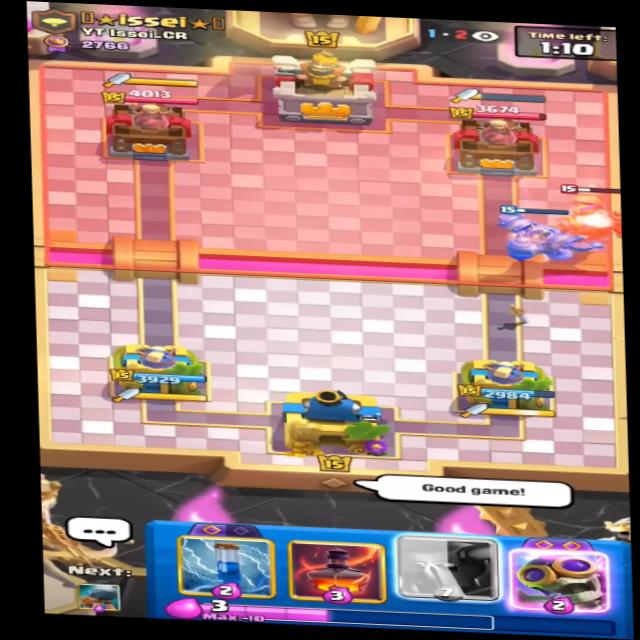goblin-machine: (541, 184, 631, 248)
